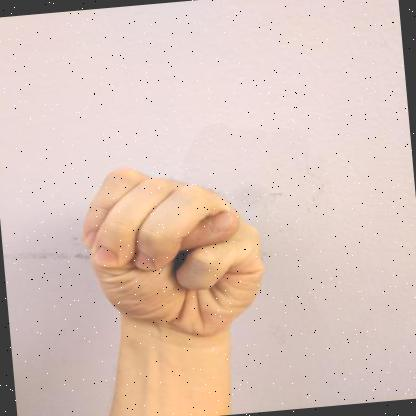M: (82, 167, 265, 337)
